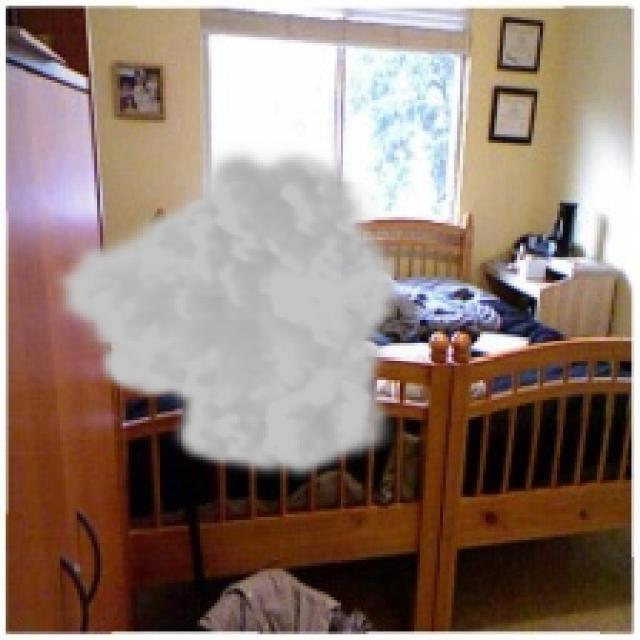Smoke: (48, 140, 403, 483)
